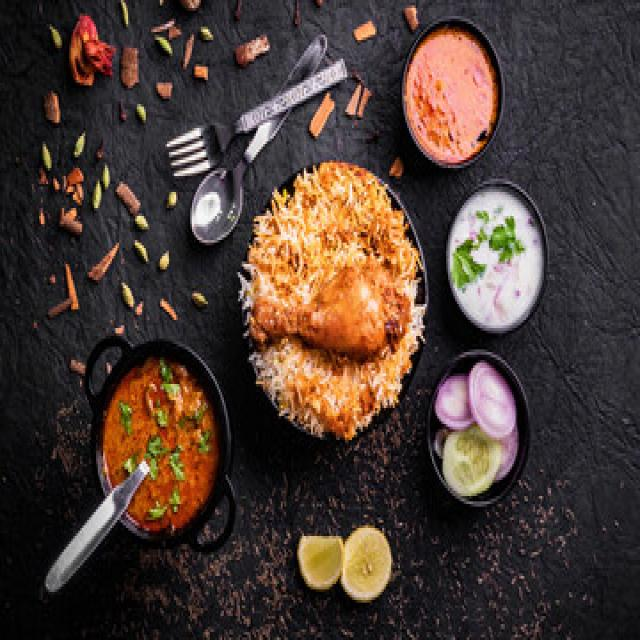BIRIYANI: (243, 154, 433, 440)
CURD: (447, 187, 541, 325)
CURRY: (103, 352, 216, 536), (407, 30, 497, 165)
